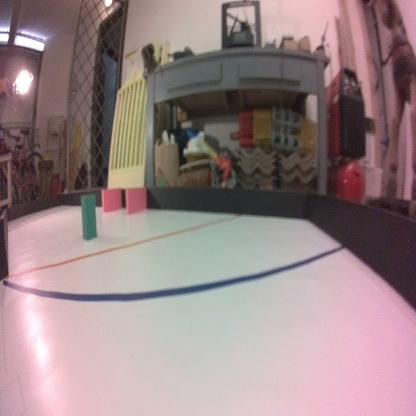green: (79, 192, 97, 241)
magenta: (126, 184, 146, 214), (100, 186, 123, 211)
